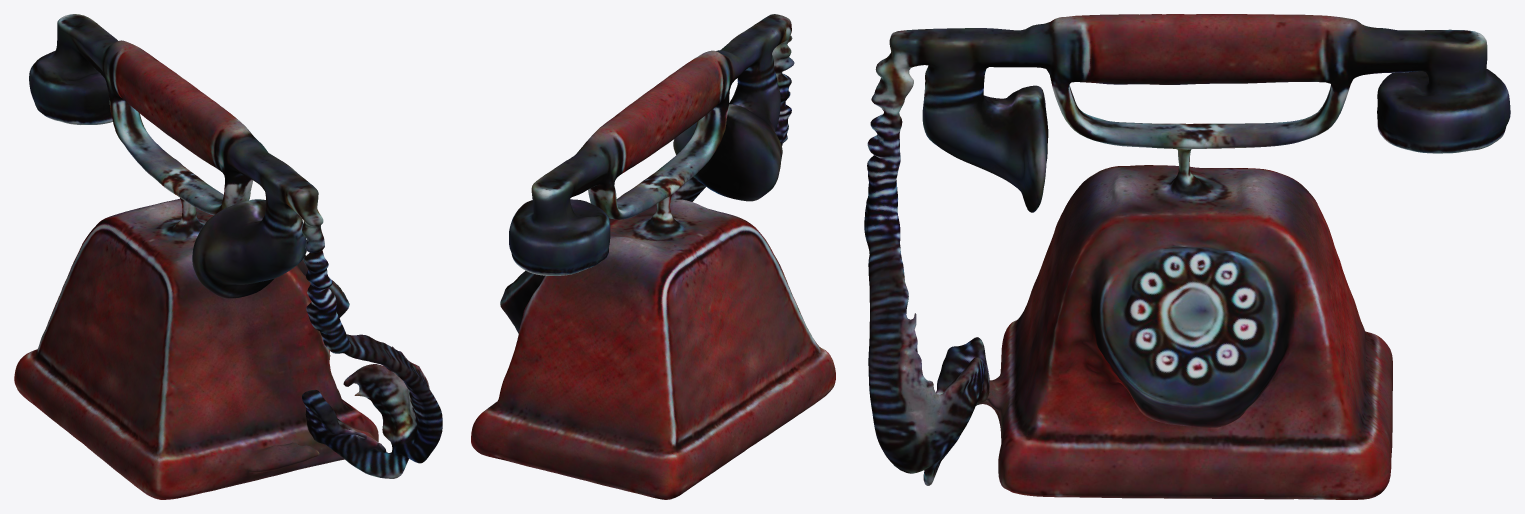
The model's file is aaa93976a7df_modern_telephone_mi.fbx.
The picture shows the model from 3 angles, left to right: view 1: azimuth 30°, elevation 25°; view 2: azimuth 150°, elevation 25°; view 3: azimuth 270°, elevation 25°; orthographic projection. The views are drawn at different scales.
Visible parts, largest first — view 1: high_poly; view 2: high_poly; view 3: high_poly.
Part boxes in pixels (bbox=[...]): high_poly: bbox=[14, 14, 442, 499]; high_poly: bbox=[471, 14, 835, 499]; high_poly: bbox=[864, 14, 1510, 499].
Bounding box in the file's own units: 55.19 × 71.29 × 100.
